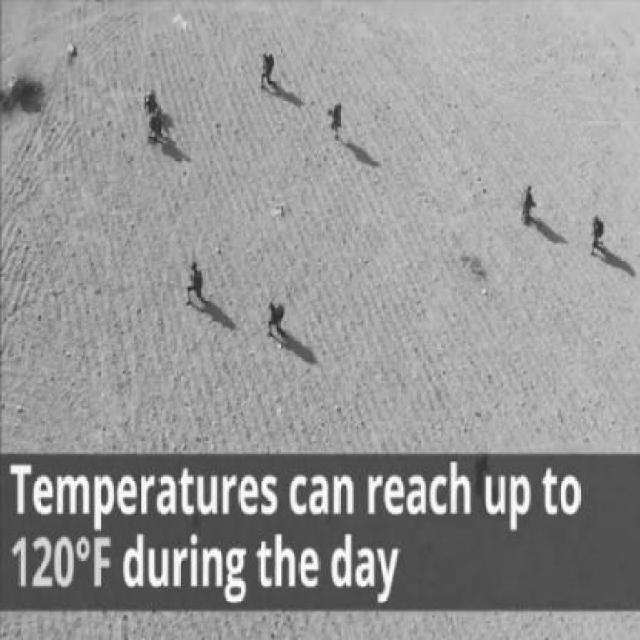Person: (185, 261, 206, 309), (257, 52, 279, 93), (267, 301, 287, 343), (324, 98, 343, 142), (519, 183, 537, 229), (589, 214, 607, 257), (146, 107, 164, 146)
